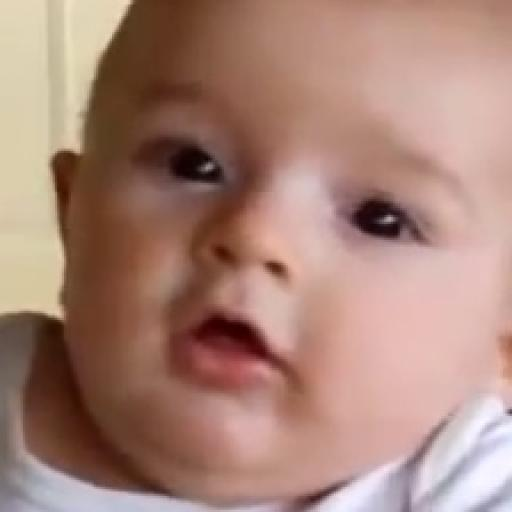Autism: (38, 16, 512, 504)
